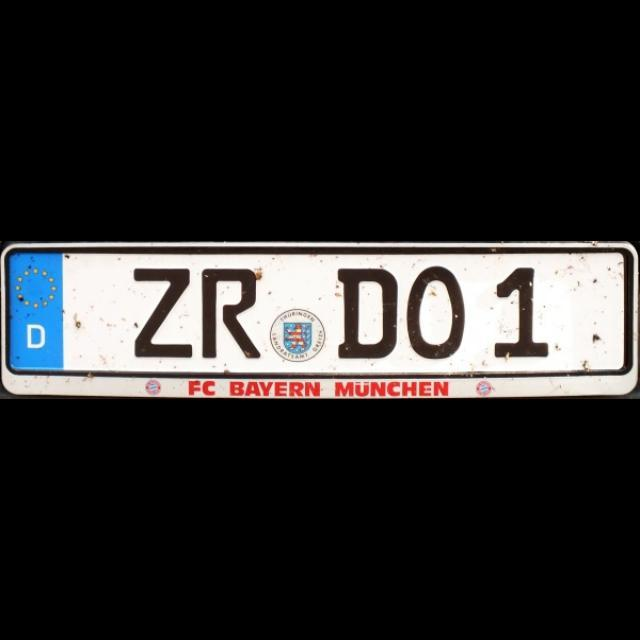license-plates: (1, 243, 640, 400)
